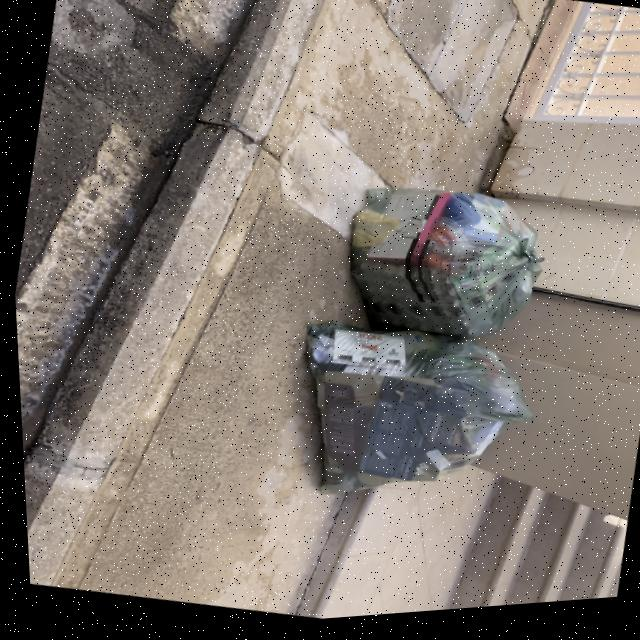Recycled Waste -Grey or Green Bag-: (261, 306, 543, 541), (320, 168, 561, 377)
